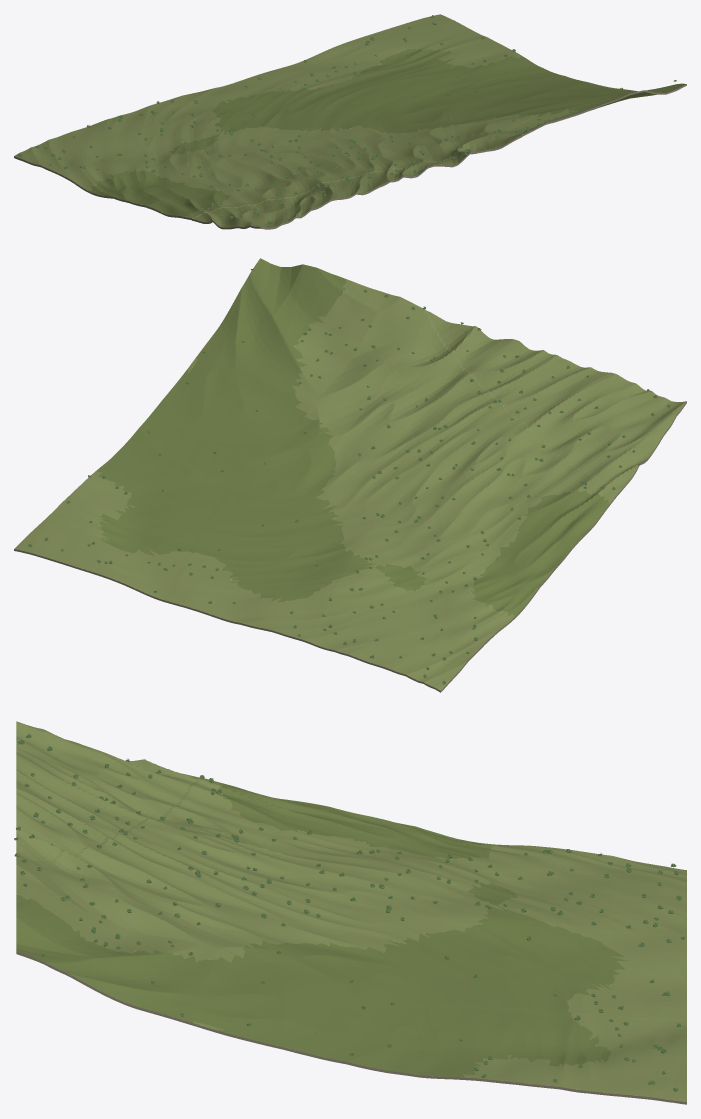
The model's file is parca_+7_-4-yakin.glb.
3 renders of one model, top to bottom at view 1: azimuth 30°, elevation 25°; view 2: azimuth 150°, elevation 25°; view 3: azimuth 270°, elevation 25°, orthographic. The views are drawn at different scales.
Visible parts, largest first — view 1: parca_+7_-4_arazi, parca_+7_-4_bitkiler; view 2: parca_+7_-4_arazi, parca_+7_-4_bitkiler; view 3: parca_+7_-4_arazi, parca_+7_-4_bitkiler.
Part boxes in pixels (x1,y1,x2,y2): parca_+7_-4_arazi: [14, 14, 686, 229]; parca_+7_-4_bitkiler: [18, 15, 676, 226]; parca_+7_-4_arazi: [14, 258, 686, 692]; parca_+7_-4_bitkiler: [28, 269, 670, 684]; parca_+7_-4_arazi: [16, 721, 686, 1104]; parca_+7_-4_bitkiler: [14, 733, 685, 1091].
Size of the model in its own units: 1003 by 346 by 1003.
